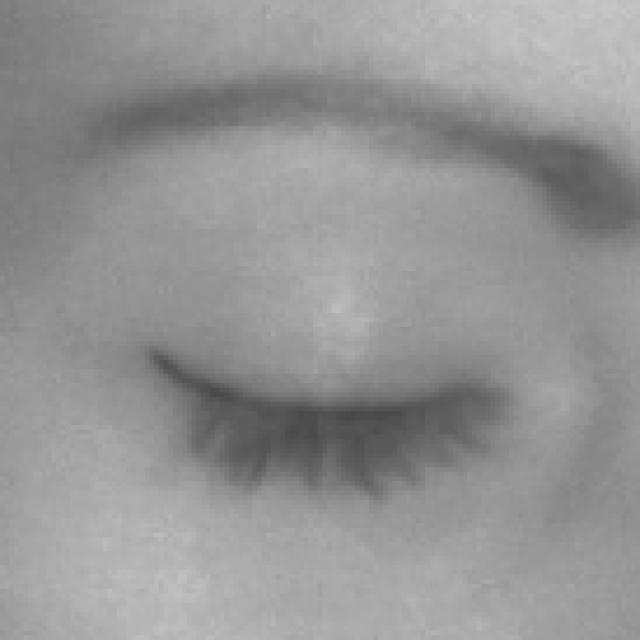close: (29, 29, 640, 567)
